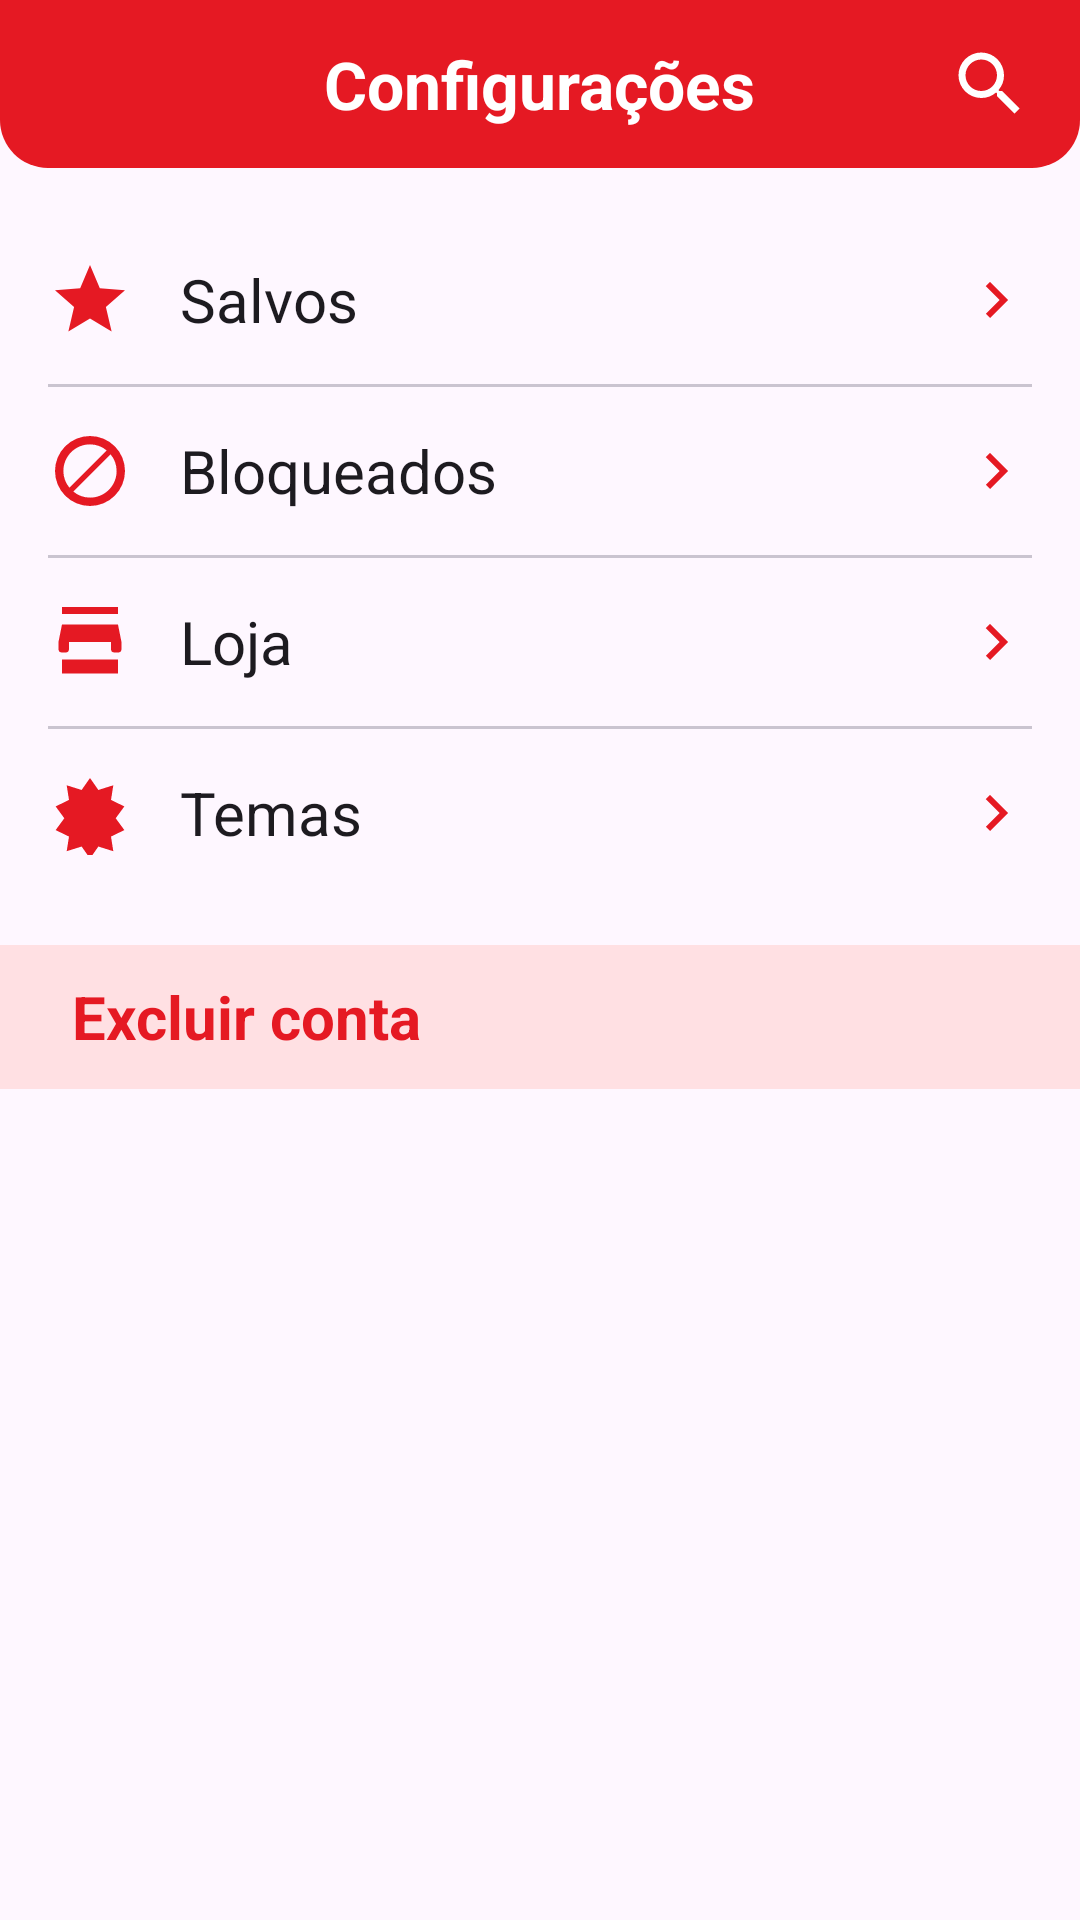

Icons on this 1080x1920 Android screen, each with the point to tap as [x,y]:
Abrir: [997,300], [997,471], [997,642], [997,813]
Buscar: [989,83]
